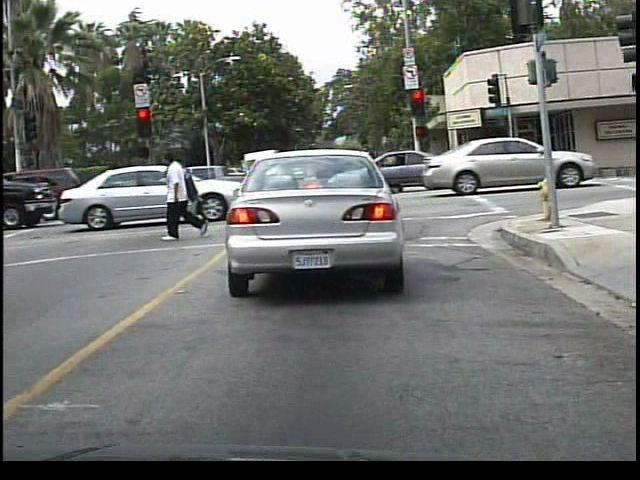person: (161, 153, 216, 244)
